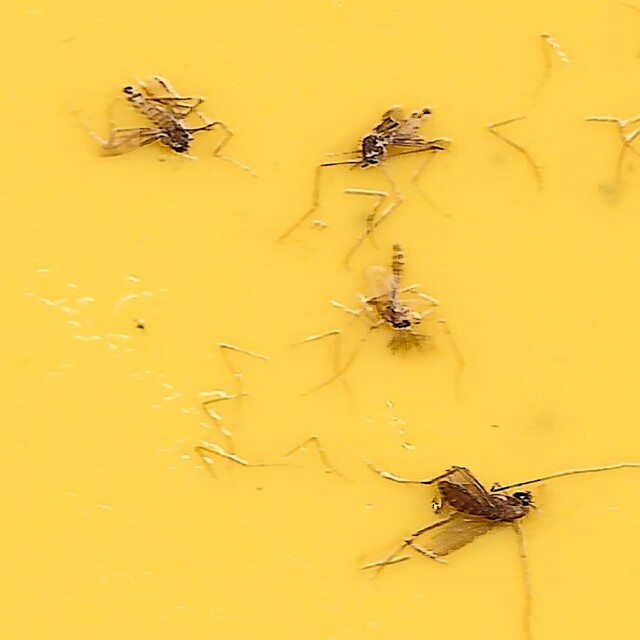Nematocera: (361, 463, 540, 565), (100, 75, 242, 170), (358, 242, 454, 358), (356, 100, 454, 167)
